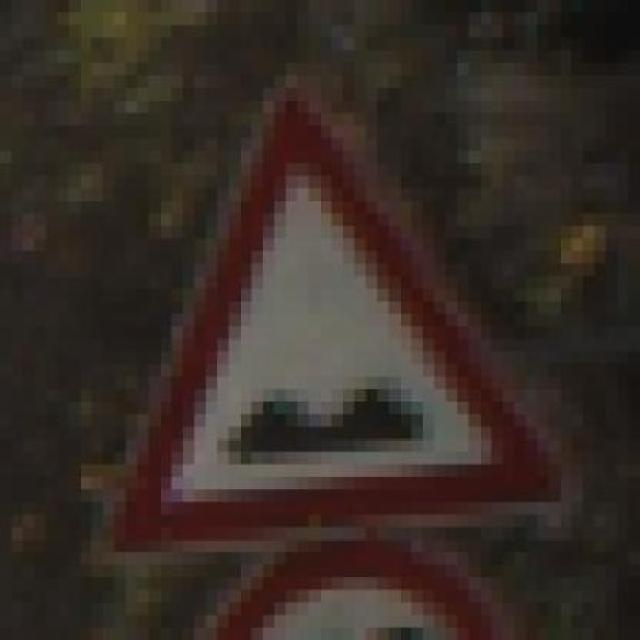Uneven Road: (91, 50, 583, 539)
